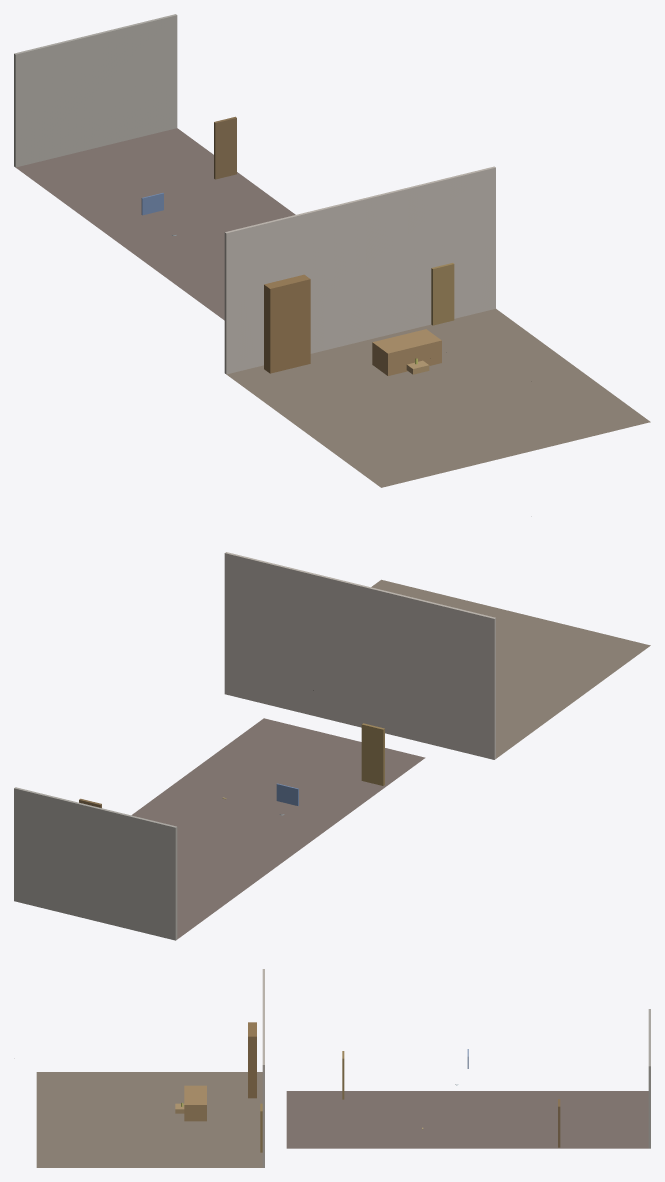
File: study.glb
The picture shows the model from 3 angles, top to bottom: view 1: azimuth 30°, elevation 25°; view 2: azimuth 150°, elevation 25°; view 3: azimuth 270°, elevation 25°; orthographic projection. The views are drawn at different scales.
Visible parts, largest first — view 1: Floor, BackWall, HallwayFloor, HallwayEndWall, Bookshelf, Desk, Door, LockedDoor; view 2: BackWall, HallwayFloor, HallwayEndWall, Floor, DoorToStudy; view 3: HallwayFloor, Floor, Desk, Bookshelf, BackWall, HallwayEndWall.
Boxes of the visible parts, x1,y1,x2,y2 form: Floor: [226, 309, 650, 487]; BackWall: [224, 166, 495, 374]; HallwayFloor: [16, 128, 295, 320]; HallwayEndWall: [14, 14, 177, 167]; Bookshelf: [264, 274, 310, 373]; Desk: [372, 329, 441, 375]; Door: [431, 263, 454, 325]; LockedDoor: [214, 116, 236, 179]; BackWall: [224, 552, 495, 759]; HallwayFloor: [131, 718, 425, 939]; HallwayEndWall: [14, 787, 177, 940]; Floor: [371, 579, 650, 758]; DoorToStudy: [361, 723, 384, 785]; HallwayFloor: [286, 1091, 648, 1148]; Floor: [36, 1072, 262, 1167]; Desk: [184, 1085, 206, 1121]; Bookshelf: [248, 1022, 256, 1098]; BackWall: [262, 969, 264, 1167]; HallwayEndWall: [648, 1009, 650, 1148].
Size of the model in its own units: 10 by 5 by 28.06.
